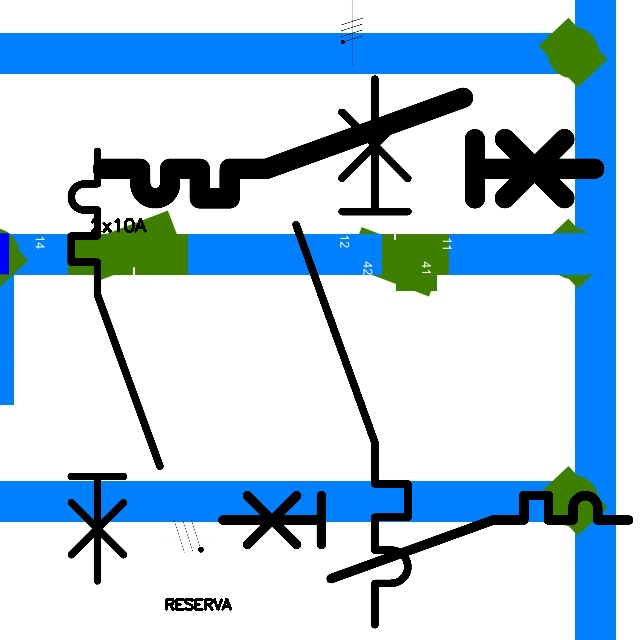interruptor_termomagnetico: (282, 64, 422, 638), (90, 85, 607, 211), (60, 140, 170, 592), (212, 485, 639, 589)
